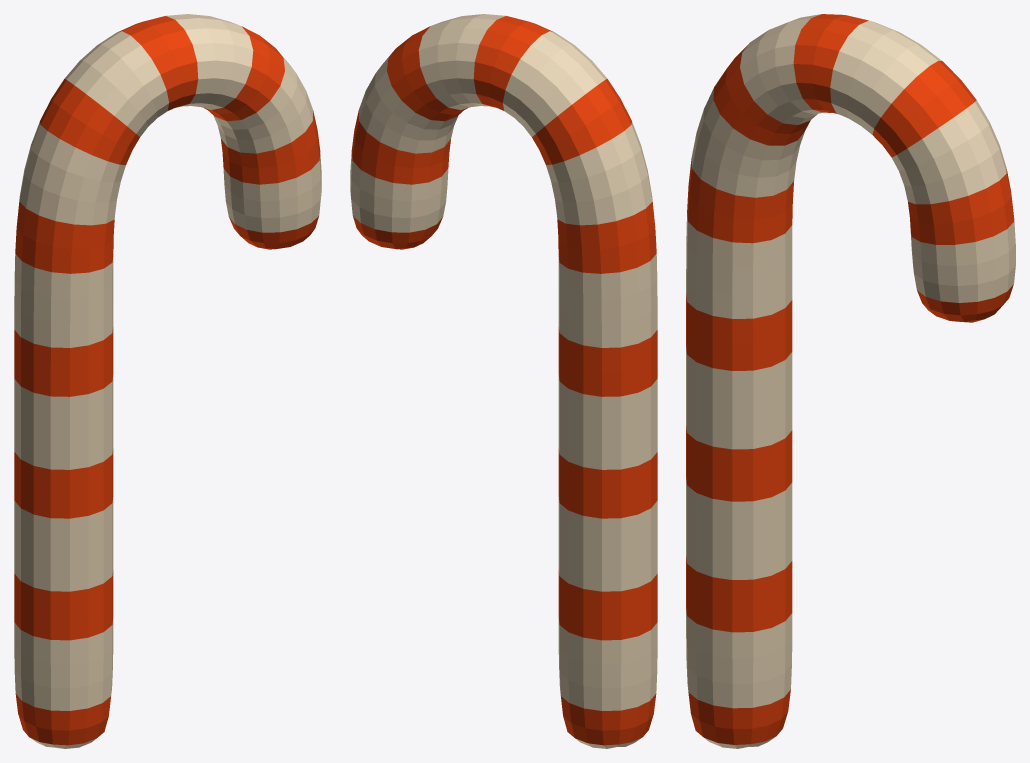
The model's file is G477Proj1CandyCane.fbx.
3 renders of one model, left to right at view 1: azimuth 30°, elevation 25°; view 2: azimuth 150°, elevation 25°; view 3: azimuth 330°, elevation 25°, orthographic. The views are drawn at different scales.
Parts seen in each view (by area): view 1: CandyCane; view 2: CandyCane; view 3: CandyCane.
Part boxes in pixels (left/top/right/bottom): CandyCane: left=14, top=14, right=321, bottom=748; CandyCane: left=350, top=14, right=657, bottom=748; CandyCane: left=686, top=14, right=1015, bottom=748.
Size of the model in its own units: 181 by 407 by 52.85.
